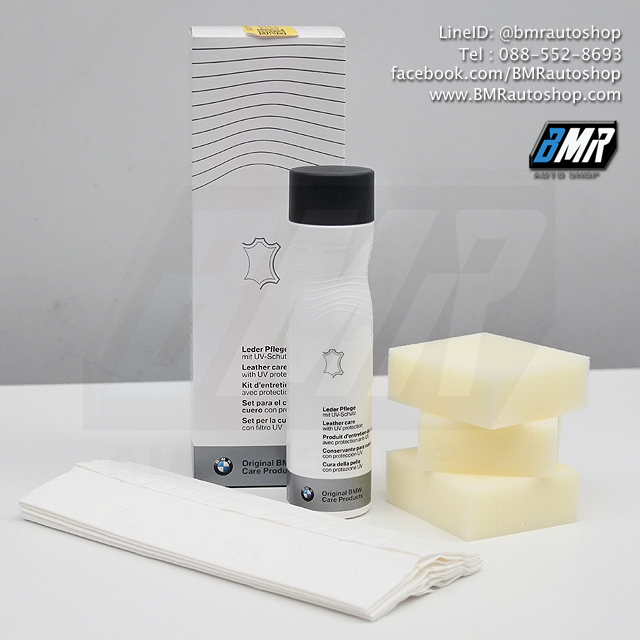Cleaning_solution: (281, 157, 380, 523)
